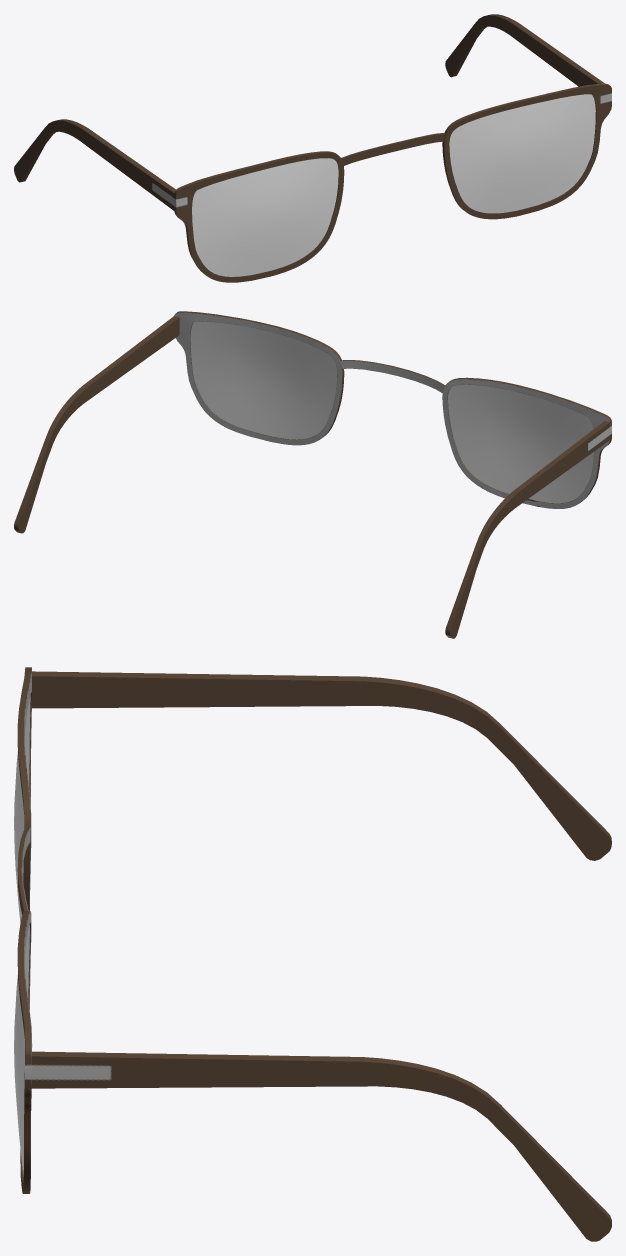
The model's file is PRADA Glasses Wide Optimized Shorter Arms.fbx.
3 renders of one model, top to bottom at view 1: azimuth 30°, elevation 25°; view 2: azimuth 150°, elevation 25°; view 3: azimuth 270°, elevation 25°, orthographic. The views are drawn at different scales.
Visible parts, largest first — view 1: PRADA Glasses Wide Optimized Shorter Arms; view 2: PRADA Glasses Wide Optimized Shorter Arms; view 3: PRADA Glasses Wide Optimized Shorter Arms.
Part boxes in pixels (left/top/right/bottom): PRADA Glasses Wide Optimized Shorter Arms: left=14, top=14, right=611, bottom=282; PRADA Glasses Wide Optimized Shorter Arms: left=14, top=311, right=611, bottom=638; PRADA Glasses Wide Optimized Shorter Arms: left=14, top=667, right=611, bottom=1241.
Bounding box in the file's own units: 0.1874 × 0.0471 × 0.1229.
